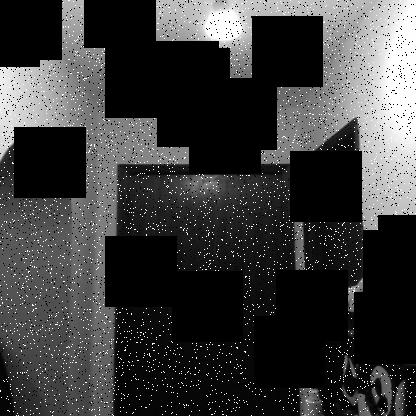Porte: (112, 160, 302, 415)
